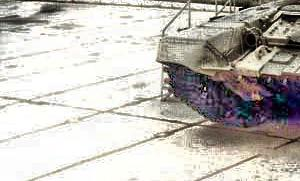tanks: (158, 1, 300, 127)
